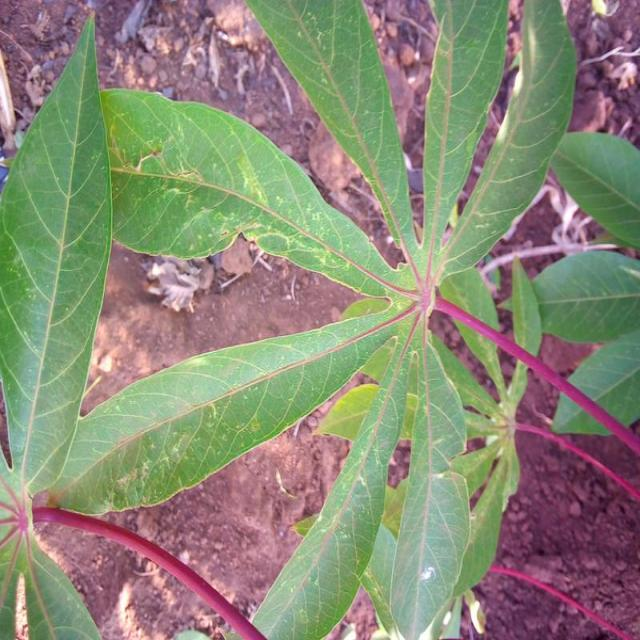cassava leaf: (0, 1, 638, 637), (0, 12, 114, 499)
